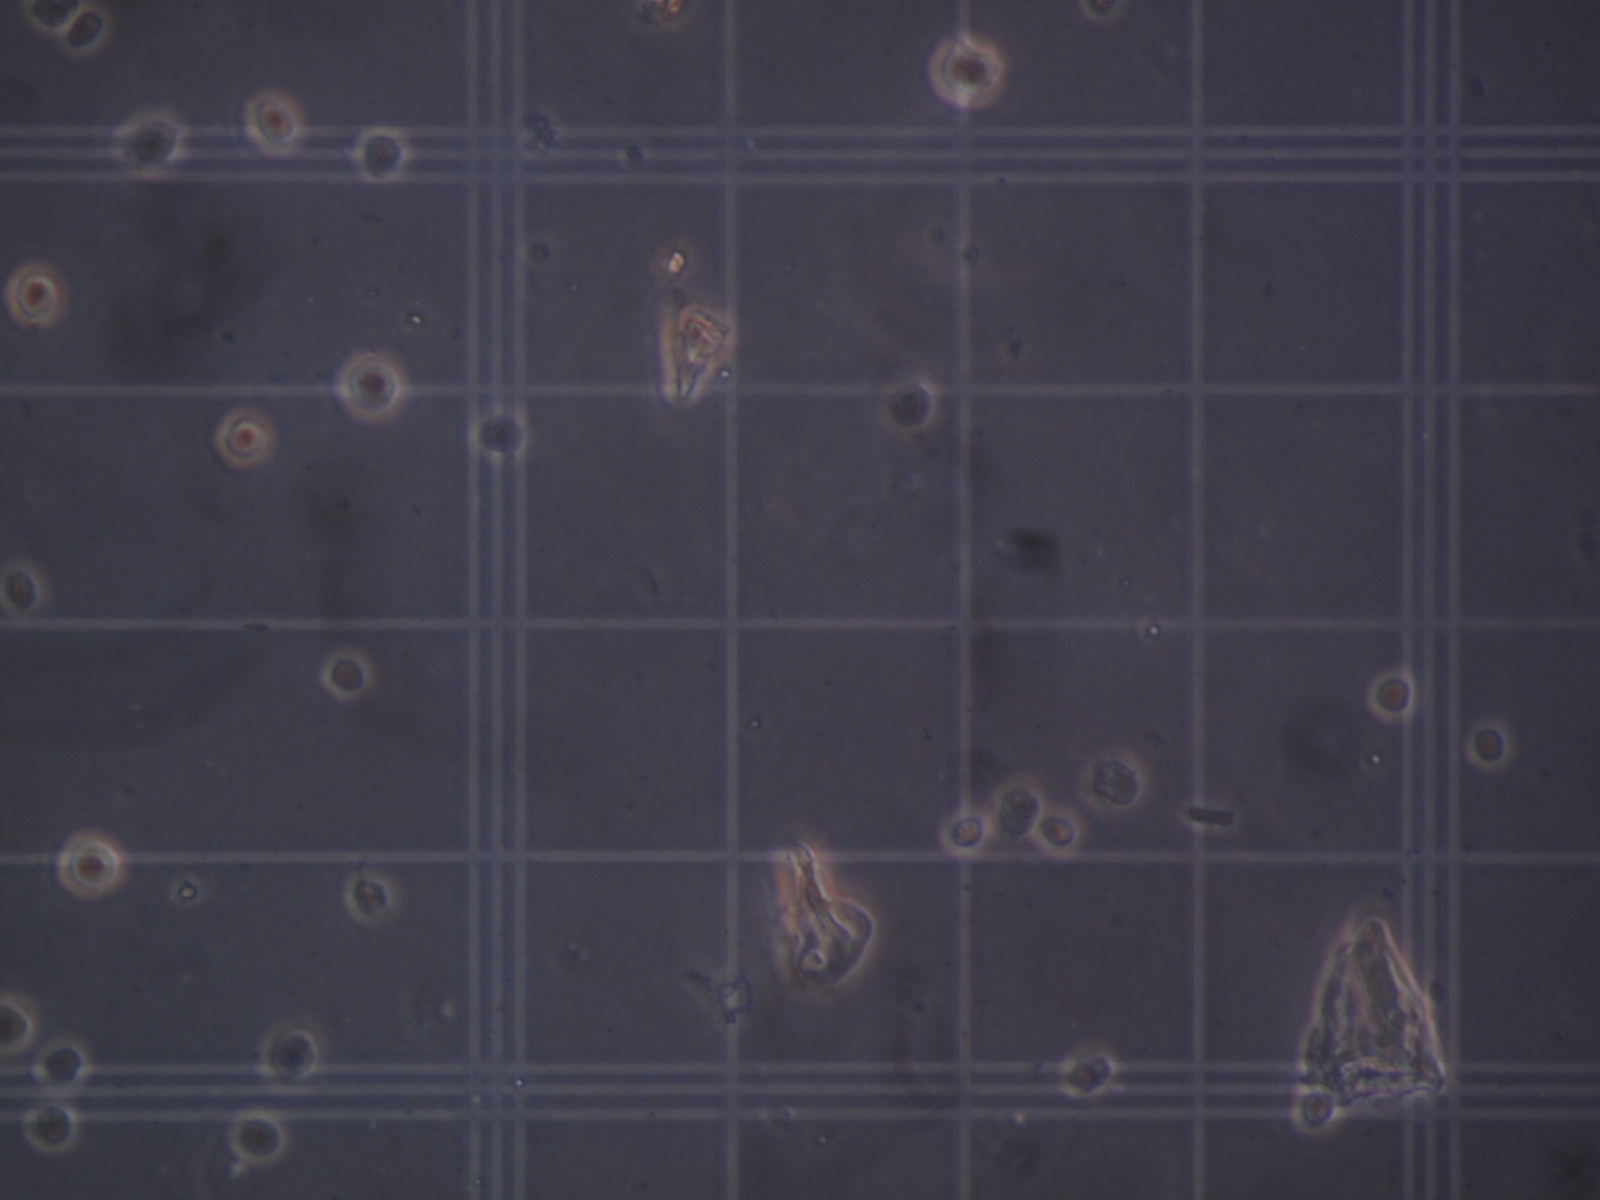hemo: (926, 34, 1003, 108), (111, 110, 186, 179), (335, 350, 404, 424), (256, 1020, 323, 1094), (55, 831, 125, 900), (4, 261, 69, 326), (242, 89, 304, 158), (1080, 751, 1146, 811), (213, 407, 275, 468), (991, 774, 1046, 841), (228, 1108, 287, 1166), (879, 376, 937, 434), (353, 125, 409, 184), (343, 868, 399, 926), (23, 1099, 79, 1155), (1060, 1045, 1117, 1099), (472, 408, 529, 461), (34, 1037, 89, 1089), (320, 648, 372, 701), (1366, 669, 1417, 722), (59, 4, 110, 57), (939, 807, 991, 857), (1036, 807, 1083, 857), (1290, 1088, 1340, 1136), (1, 560, 44, 615), (1466, 718, 1511, 771), (1, 991, 37, 1056), (23, 1, 87, 37)
